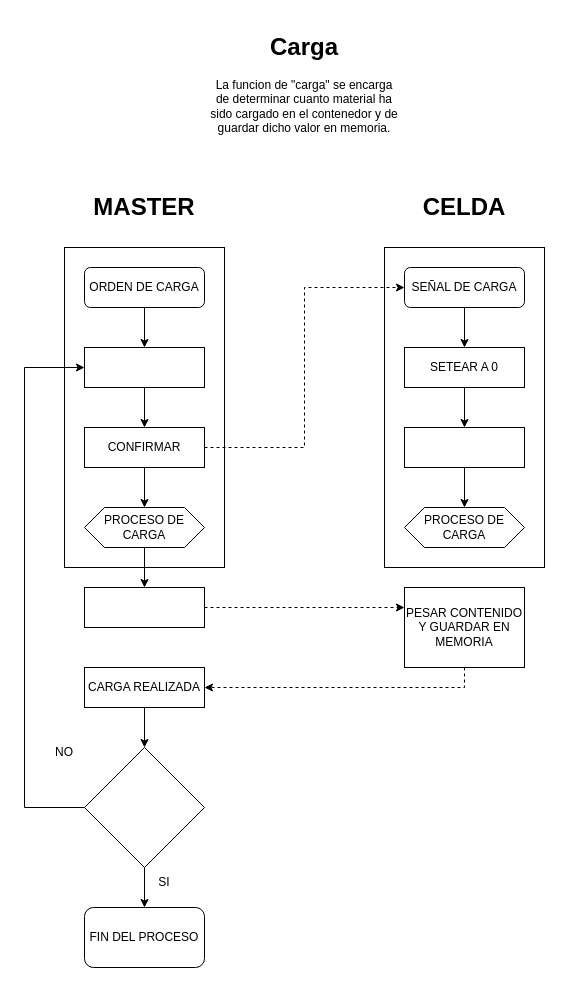
Image size: 562x985. Some labels were removed from this diagram. The shapes that lost their labels are listed below. From the top down, each one's centre as x and y in pixels, then its label:
(144,367): SELECCIONAR CONTENEDOR
(464,447): TARAR PESO
(144,607): CONTENEDOR LISTO
(144,807): ULTIMO CONTENEDOR
